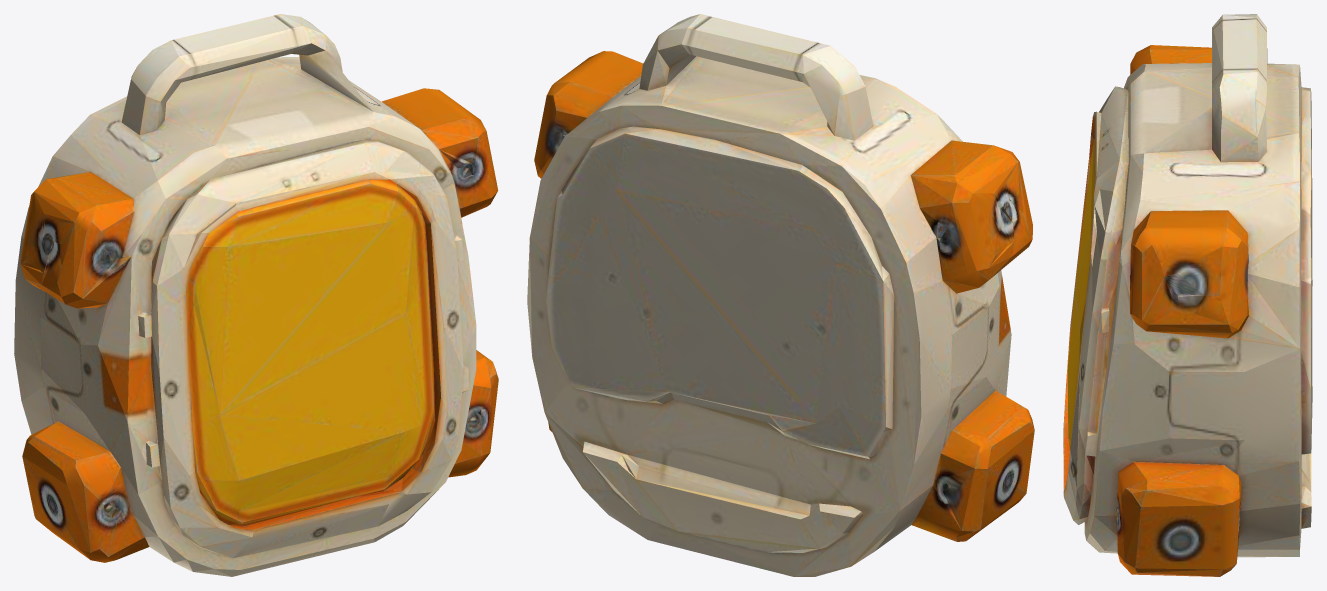
The model's file is steel_shield.glb.
3 renders of one model, left to right at view 1: azimuth 30°, elevation 25°; view 2: azimuth 150°, elevation 25°; view 3: azimuth 270°, elevation 25°, orthographic. The views are drawn at different scales.
Visible parts, largest first — view 1: Mesh_0; view 2: Mesh_0; view 3: Mesh_0.
Boxes of the visible parts, box(x1,y1,x2,y2) form: Mesh_0: box(14, 14, 498, 576); Mesh_0: box(527, 14, 1034, 576); Mesh_0: box(1063, 14, 1312, 576).
Size of the model in its own units: 1.77 by 1.9 by 0.8848.
Materials: 1 (1 with a texture image).
